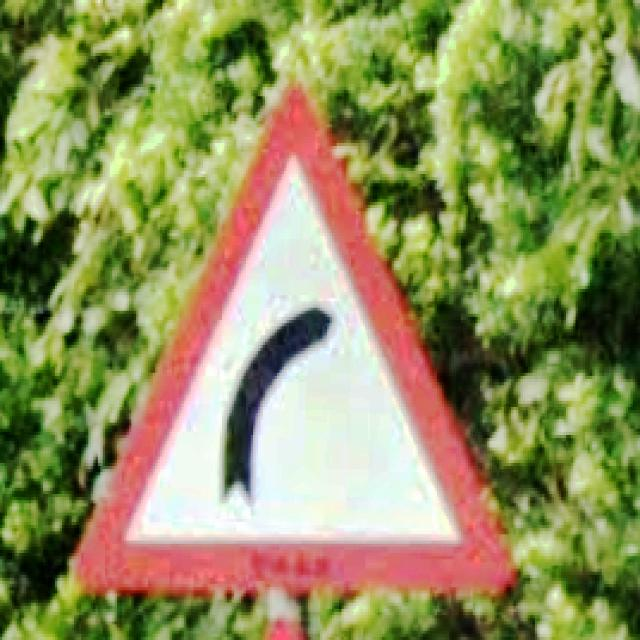rightbend: (74, 81, 516, 597)
